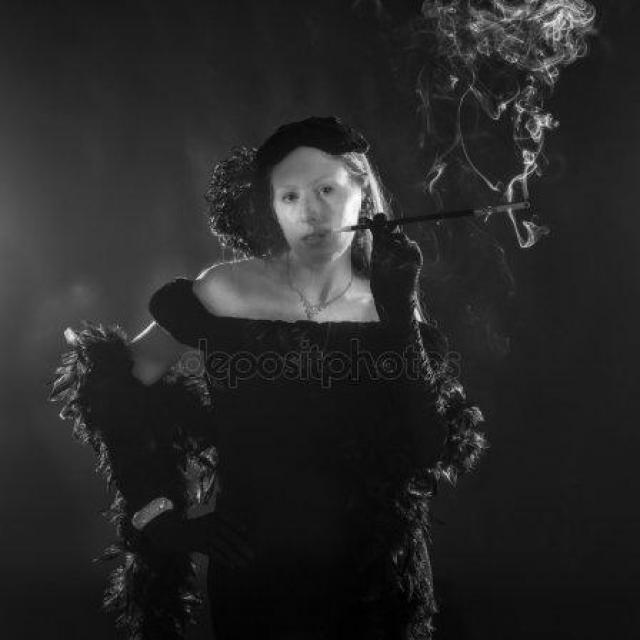Дым: (484, 0, 589, 247)
Сигарета: (335, 224, 371, 237)
Тело: (64, 134, 483, 634)
